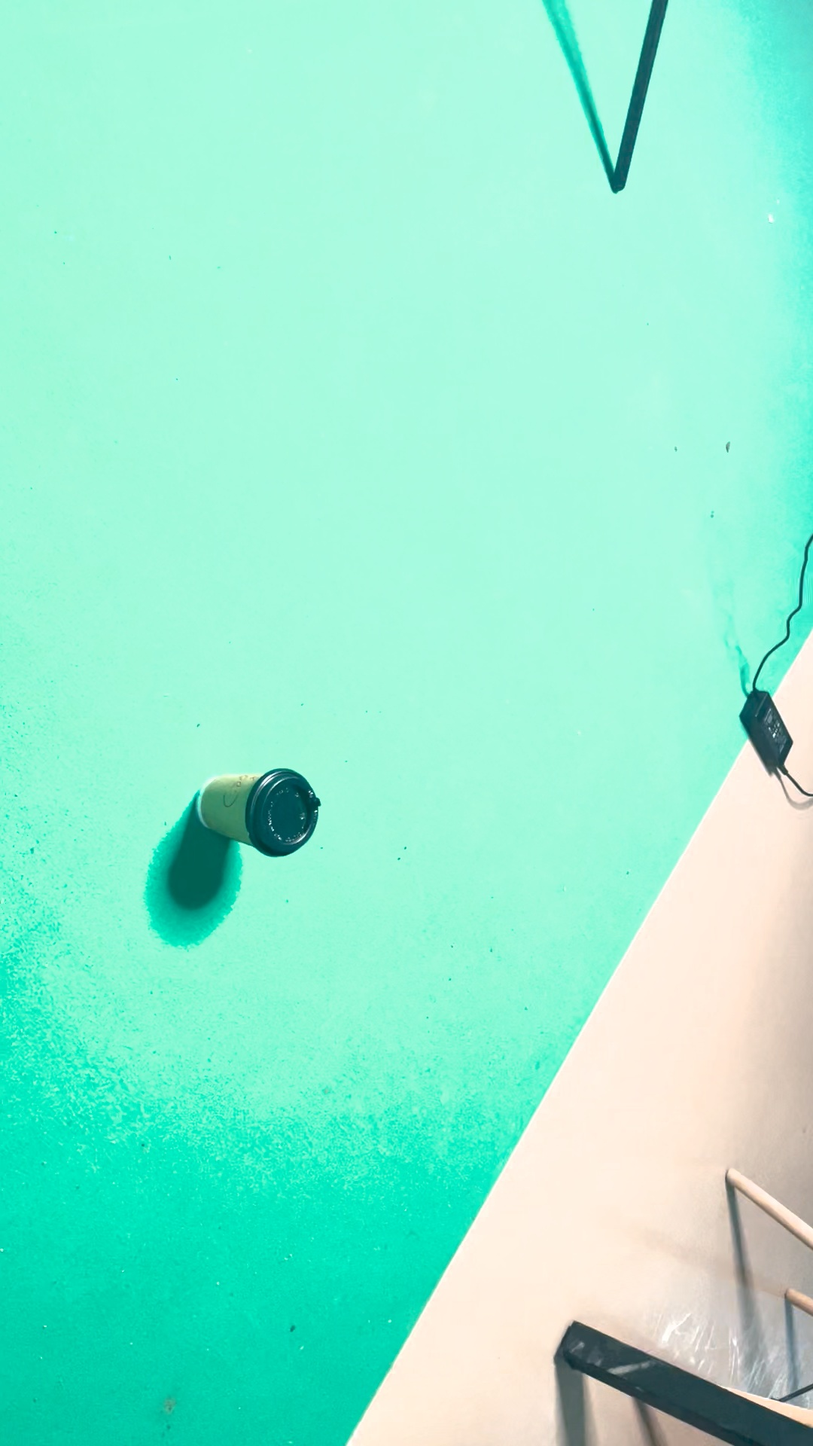cup: (422, 382, 509, 810)
